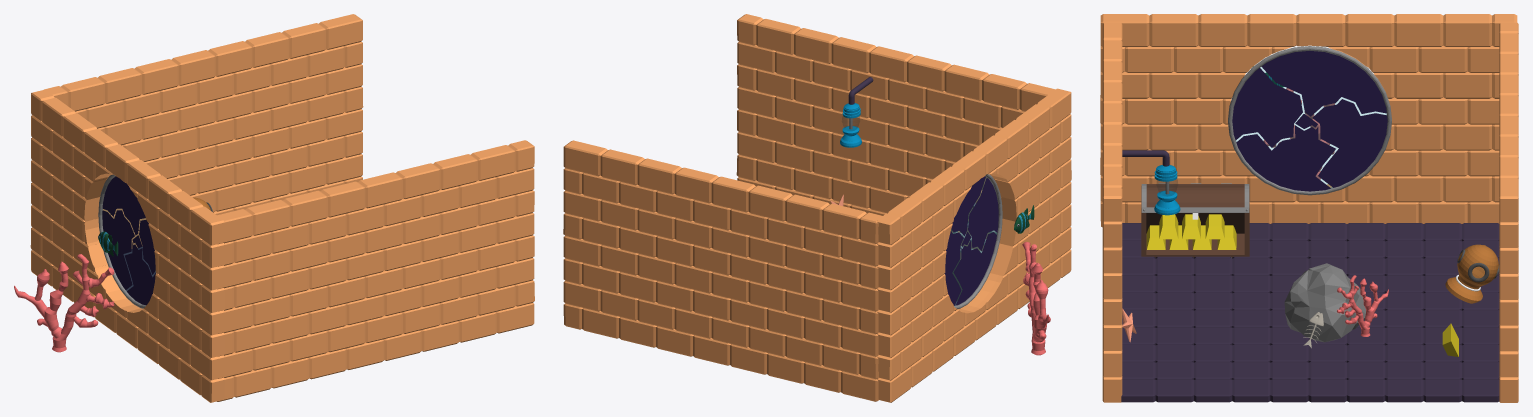
The model's file is solo.fbx.
3 renders of one model, left to right at view 1: azimuth 30°, elevation 25°; view 2: azimuth 150°, elevation 25°; view 3: azimuth 270°, elevation 25°, orthographic. The views are drawn at different scales.
Visible parts, largest first — view 1: Wall, Wall.002, Wall.001, Circle, Coral.001; view 2: Wall.002, Wall, Wall.001, Circle, Coral.001, Lamp; view 3: Floor, Wall.001, Circle, Wall, Wall.002, Cube, Chest Top, Chest, Helmet, Coral, Lamp, Ingot.004 (+6 smaller).
Part boxes in pixels (x1,y1,x2,y2): Wall: (217,140,534,401); Wall.002: (44,14,363,248); Wall.001: (30,89,224,402); Circle: (98,174,155,308); Coral.001: (14,254,114,352); Wall.002: (563,140,882,401); Wall: (736,14,1055,232); Wall.001: (877,88,1071,402); Circle: (944,174,1002,308); Coral.001: (1022,242,1050,355); Lamp: (840,103,861,147); Floor: (1121,223,1499,402); Wall.001: (1100,14,1517,227); Circle: (1228,46,1391,195); Wall: (1102,23,1122,402); Wall.002: (1499,22,1518,402); Cube: (1284,263,1365,342); Chest Top: (1141,184,1249,219); Chest: (1141,183,1249,258); Helmet: (1445,244,1499,303); Coral: (1337,275,1388,336); Lamp: (1154,165,1180,215); Ingot.004: (1205,214,1224,239).
Bounding box in the file's own units: 2032 × 851 × 1551.
